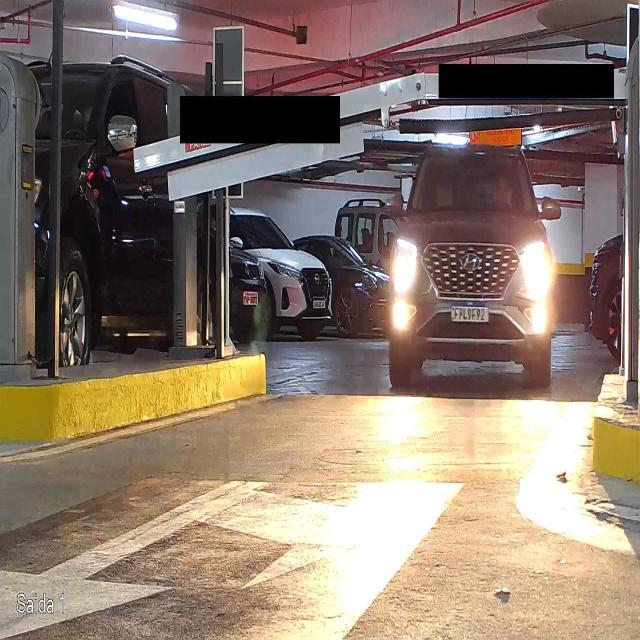mercosul_plate: (449, 301, 490, 323)
